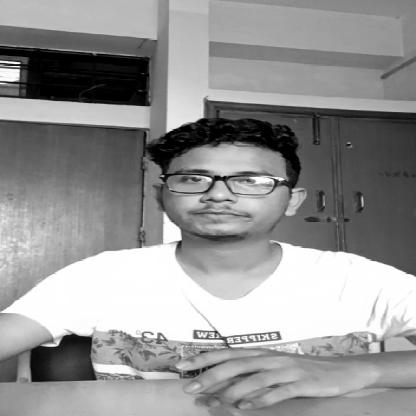Normal: (161, 129, 281, 236), (209, 142, 214, 147)
